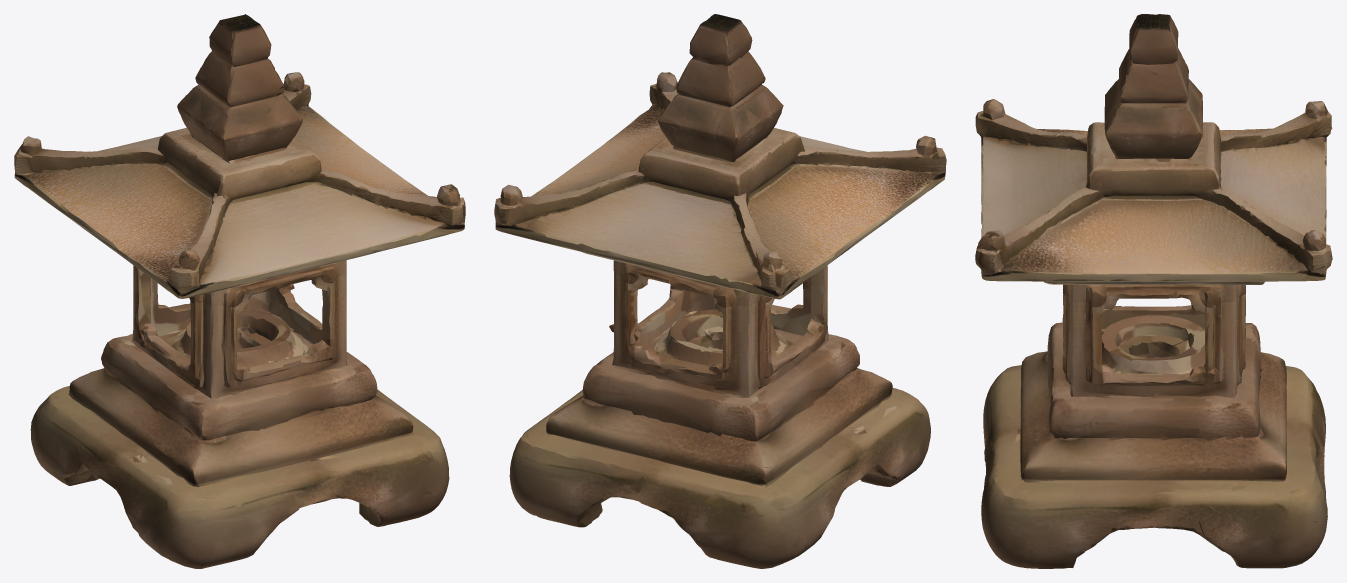
File: high_fidelity.glb
3 renders of one model, left to right at view 1: azimuth 30°, elevation 25°; view 2: azimuth 150°, elevation 25°; view 3: azimuth 270°, elevation 25°, orthographic. The views are drawn at different scales.
Visible parts, largest first — view 1: triposg_painted_00001__Retopo; view 2: triposg_painted_00001__Retopo; view 3: triposg_painted_00001__Retopo.
Part boxes in pixels (bbox=[...]): triposg_painted_00001__Retopo: bbox=[14, 14, 465, 568]; triposg_painted_00001__Retopo: bbox=[494, 14, 946, 568]; triposg_painted_00001__Retopo: bbox=[975, 14, 1332, 568].
Bounding box in the file's own units: 1.24 × 1.87 × 1.25.
Materials: 1 (1 with a texture image).
